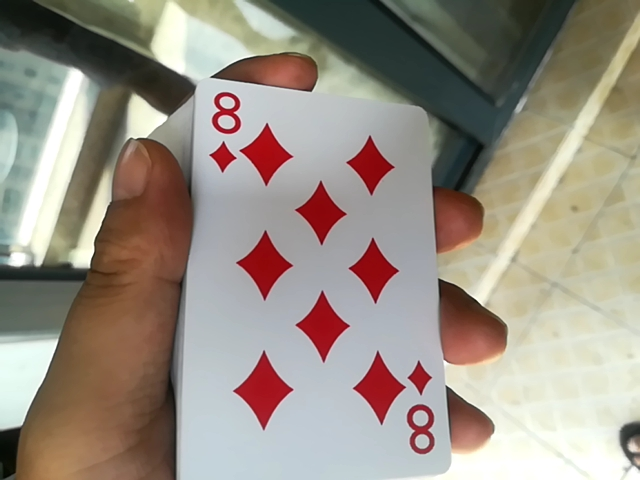fk 8: (175, 71, 450, 470)
